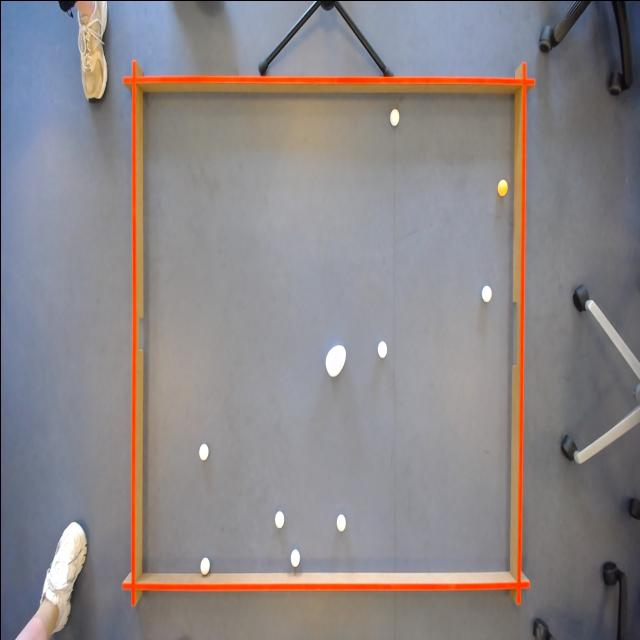egg: (324, 340, 346, 380)
orange_ball: (495, 174, 507, 198)
white_ball: (287, 546, 301, 570), (199, 554, 211, 576), (388, 106, 400, 128), (480, 282, 492, 304), (197, 441, 209, 461), (375, 340, 387, 360), (272, 510, 284, 530), (335, 512, 346, 533)
